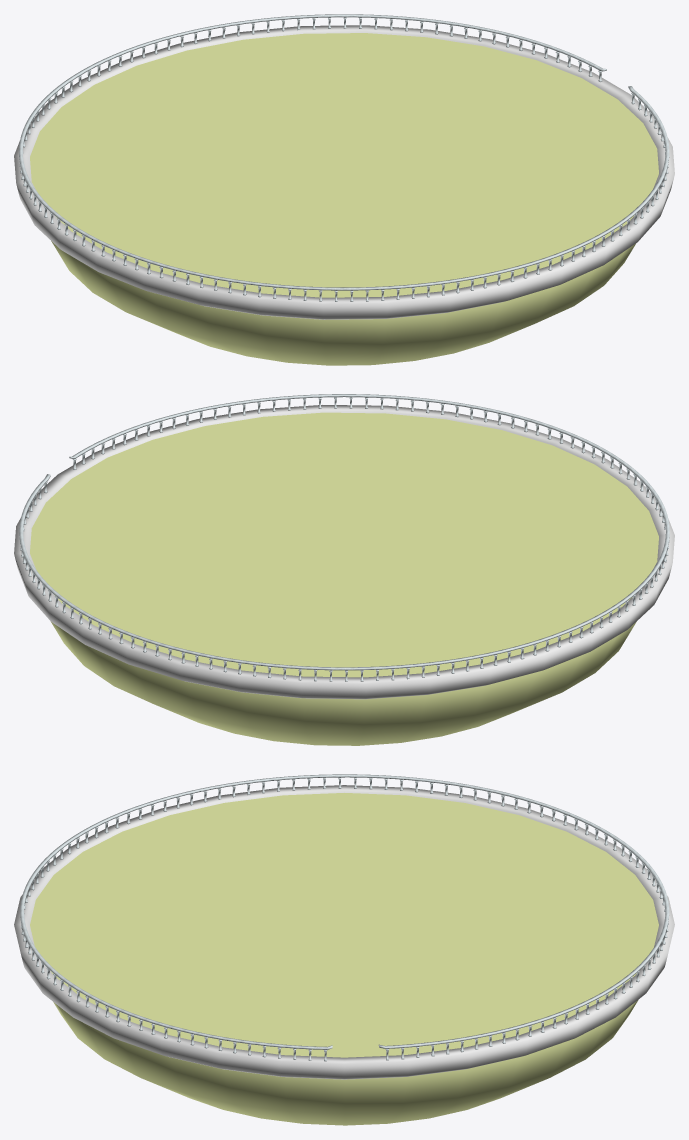
The model's file is MediumPlatform_OneGate.fbx.
3 views of the same model, one above another, from view 1: azimuth 30°, elevation 25°; view 2: azimuth 150°, elevation 25°; view 3: azimuth 270°, elevation 25° (orthographic).
Parts seen in each view (by area): view 1: GrassPlatform, Circle, GrassShader, PlatformRailing; view 2: GrassPlatform, Circle, GrassShader, PlatformRailing; view 3: GrassPlatform, Circle, GrassShader, PlatformRailing.
Boxes of the visible parts, box(x1,y1,x2,y2) form: GrassPlatform: box(30, 33, 658, 297); Circle: box(14, 25, 674, 319); GrassShader: box(51, 241, 635, 365); PlatformRailing: box(19, 14, 669, 301); GrassPlatform: box(30, 412, 658, 677); Circle: box(14, 405, 674, 699); GrassShader: box(50, 621, 636, 745); PlatformRailing: box(19, 394, 669, 681); GrassPlatform: box(30, 793, 658, 1057); Circle: box(14, 785, 674, 1079); GrassShader: box(53, 1000, 638, 1125); PlatformRailing: box(20, 774, 669, 1061).
Size of the model in its own units: 22500 by 6137 by 22500.
